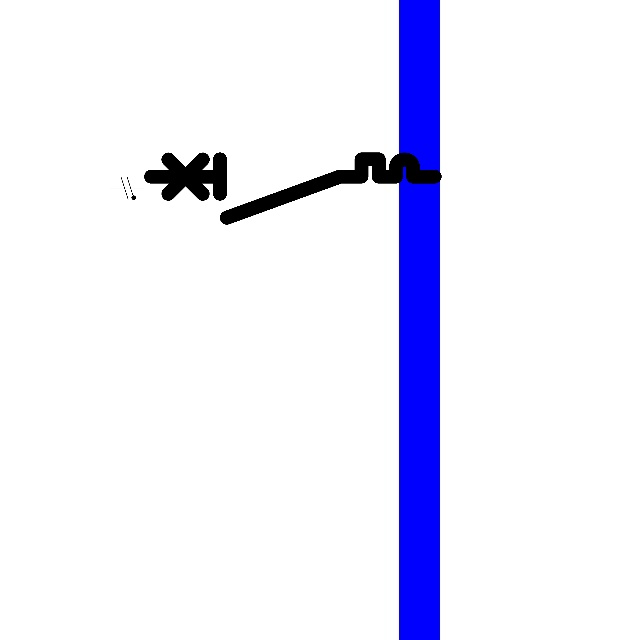interruptor_termomagnetico: (143, 152, 441, 225)
